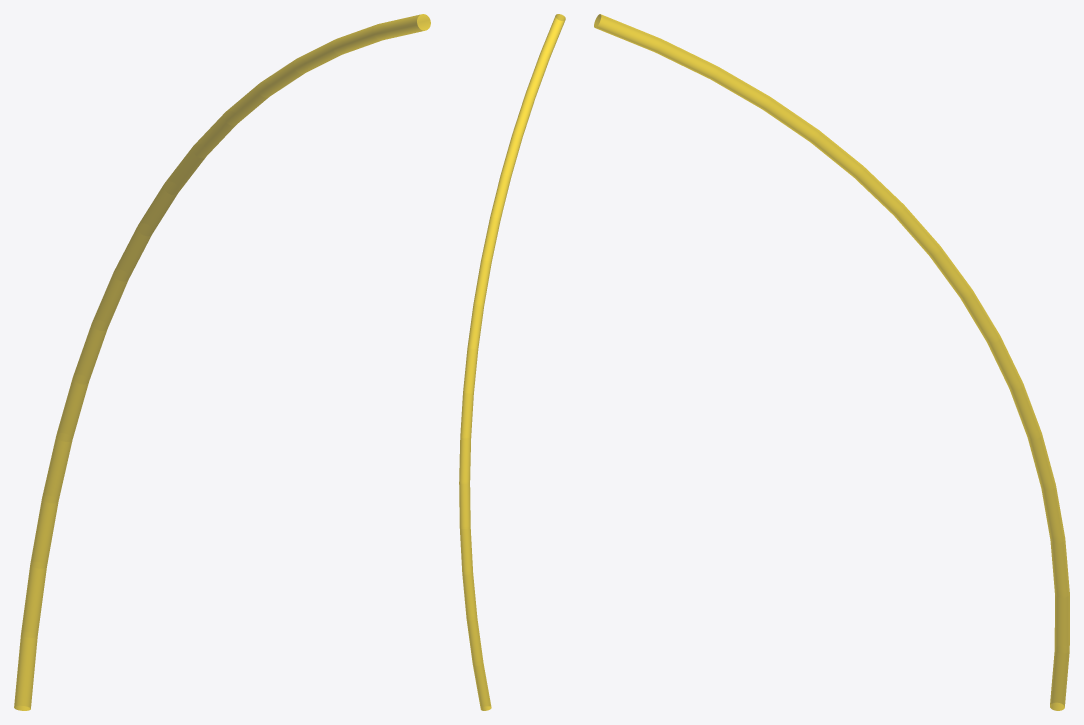
The model's file is Event_31209032_track_41.fbx.
3 renders of one model, left to right at view 1: azimuth 30°, elevation 25°; view 2: azimuth 150°, elevation 25°; view 3: azimuth 270°, elevation 25°, orthographic. The views are drawn at different scales.
Parts seen in each view (by area): view 1: Model; view 2: Model; view 3: Model.
Part boxes in pixels (x1,y1,x2,y2): Model: [14, 14, 430, 710]; Model: [459, 14, 565, 710]; Model: [594, 14, 1069, 710].
Size of the model in its own units: 0.4309 by 2.21 by 1.26.
